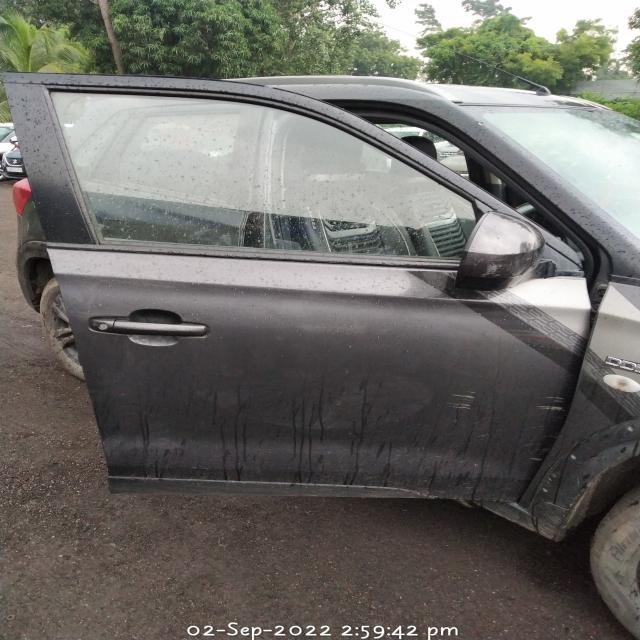damage: (434, 383, 576, 461)
